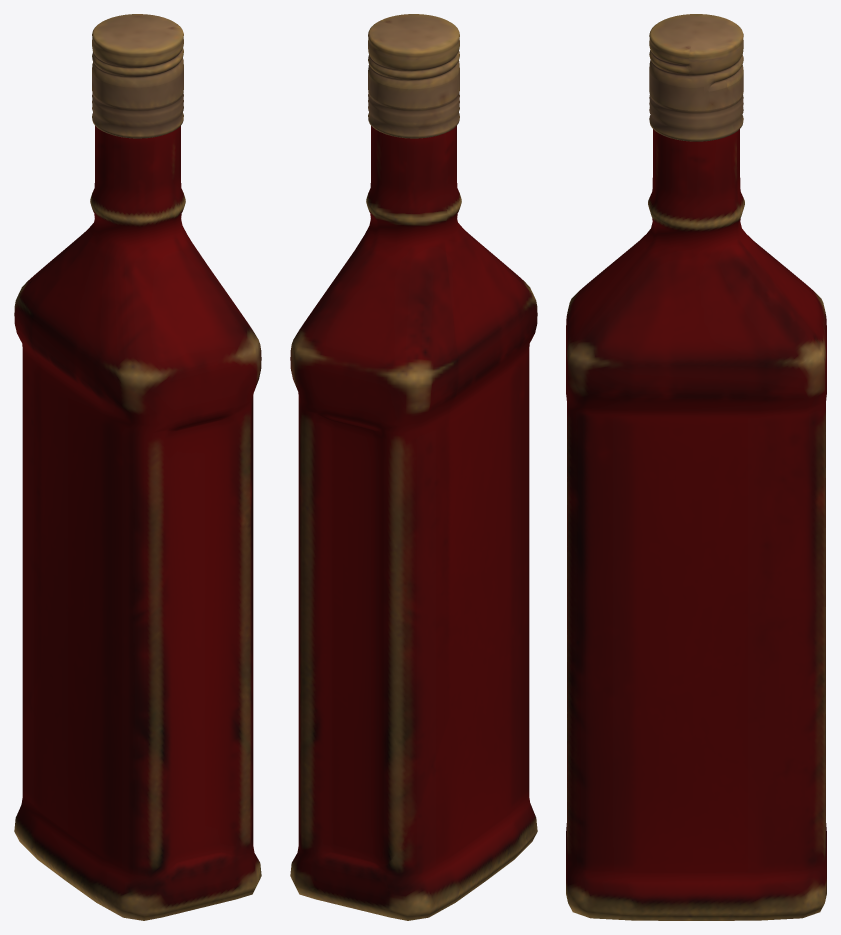
File: SM_Bottle13.fbx
3 views of the same model, side by side, from view 1: azimuth 30°, elevation 25°; view 2: azimuth 150°, elevation 25°; view 3: azimuth 270°, elevation 25° (orthographic). The views are drawn at different scales.
Parts seen in each view (by area): view 1: SM_Bottle13_LOD0; view 2: SM_Bottle13_LOD0; view 3: SM_Bottle13_LOD0.
Part boxes in pixels (x1=…): SM_Bottle13_LOD0: x1=14, y1=14, x2=261, y2=920; SM_Bottle13_LOD0: x1=290, y1=14, x2=537, y2=920; SM_Bottle13_LOD0: x1=566, y1=14, x2=826, y2=920.
Size of the model in its own units: 7.65 by 11.1 by 40.07.
Materials: 1 (1 with a texture image).
